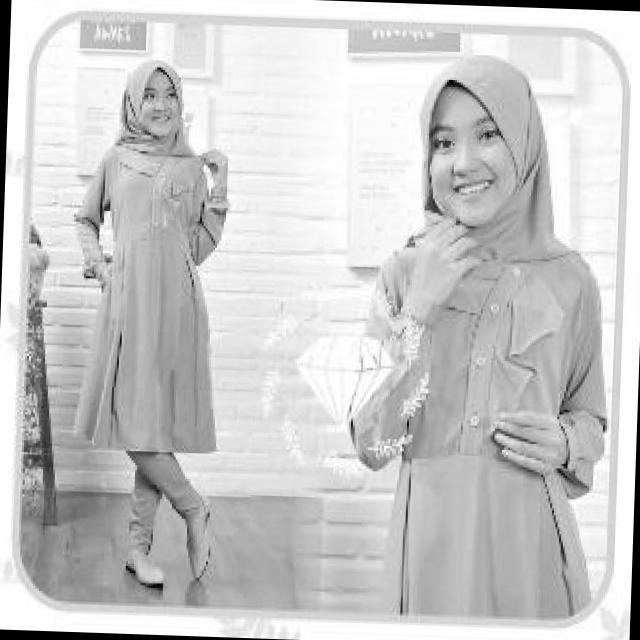Focused: (426, 62, 519, 226), (126, 64, 199, 155)
